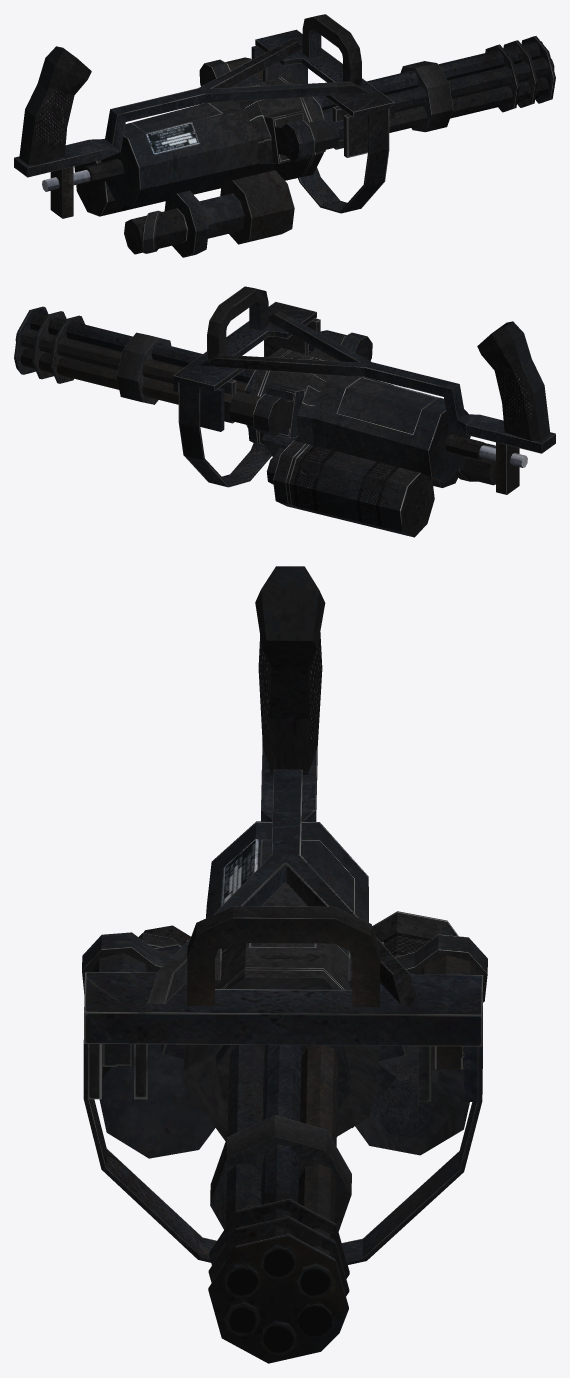
Rendered from minigun.gltf.
3 views of the same model, one above another, from view 1: azimuth 30°, elevation 25°; view 2: azimuth 150°, elevation 25°; view 3: azimuth 270°, elevation 25° (orthographic). The views are drawn at different scales.
Parts seen in each view (by area): view 1: m134.png; view 2: m134.png; view 3: m134.png.
Part boxes in pixels (x1=…): m134.png: x1=14, y1=14, x2=555, y2=257; m134.png: x1=14, y1=286, x2=555, y2=537; m134.png: x1=82, y1=566, x2=487, y2=1363.
Bounding box in the file's own units: 5.95 × 2.42 × 2.02.
1 material, 1 textured.
